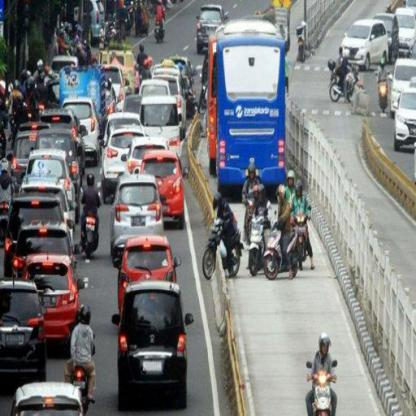bus: (206, 22, 290, 189)
car: (115, 283, 194, 408), (23, 254, 86, 338), (0, 279, 51, 381), (112, 175, 160, 252), (116, 237, 177, 291), (141, 150, 188, 210), (9, 380, 87, 415), (137, 96, 186, 151), (340, 18, 390, 66), (100, 123, 141, 180), (392, 87, 416, 148), (195, 4, 227, 47), (387, 58, 415, 101)
motorbike: (200, 214, 240, 278), (302, 358, 344, 416), (264, 219, 301, 281), (290, 204, 318, 269), (246, 216, 266, 280)
